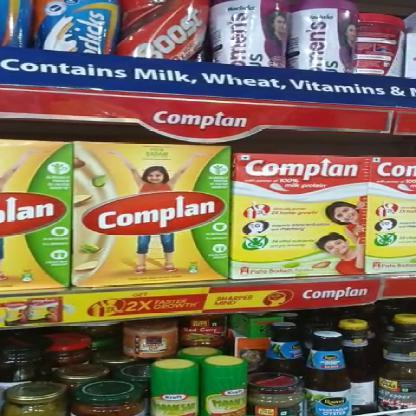Complan Pista Badam: (74, 146, 230, 288), (234, 152, 358, 280)
